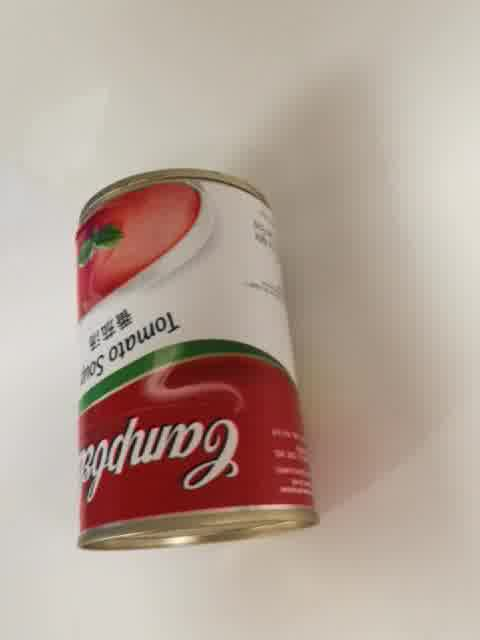tomatosoup: (73, 165, 323, 553)
